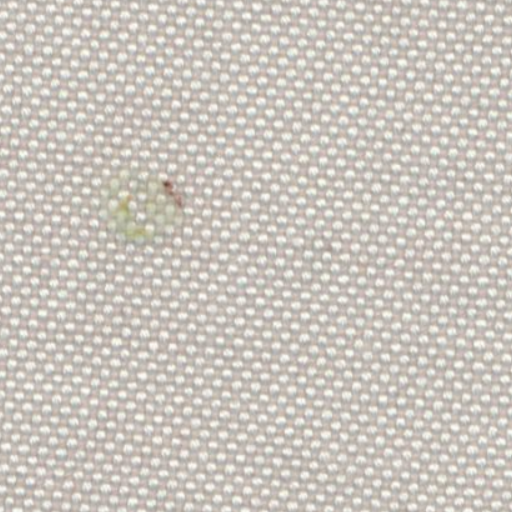WuZi: (82, 152, 216, 258)
